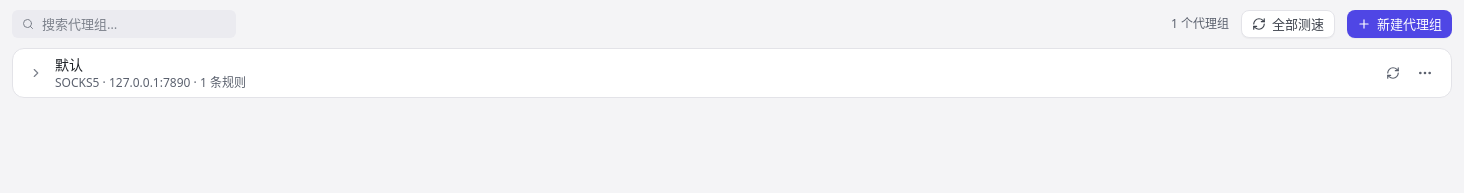
Test: ProxiesTab › calls onEditRule when a rule in an expanded group is clicked
Later steps or results of the test are not shown.
Click the button "默认 SOCKS5 · 127.0.0.1:7890 · 1 条规则" at (77, 82), box [13, 49, 1451, 97]
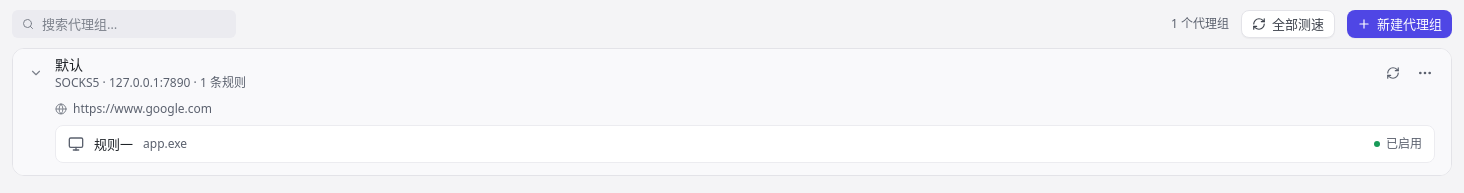
Result: the button "规则一 app.exe 已启用" is shown at [56, 126, 1434, 162]
